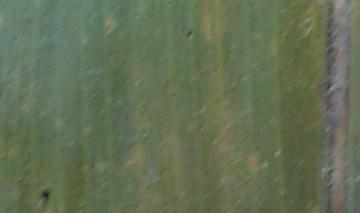tarspot: (39, 189, 52, 200), (185, 29, 194, 38)
